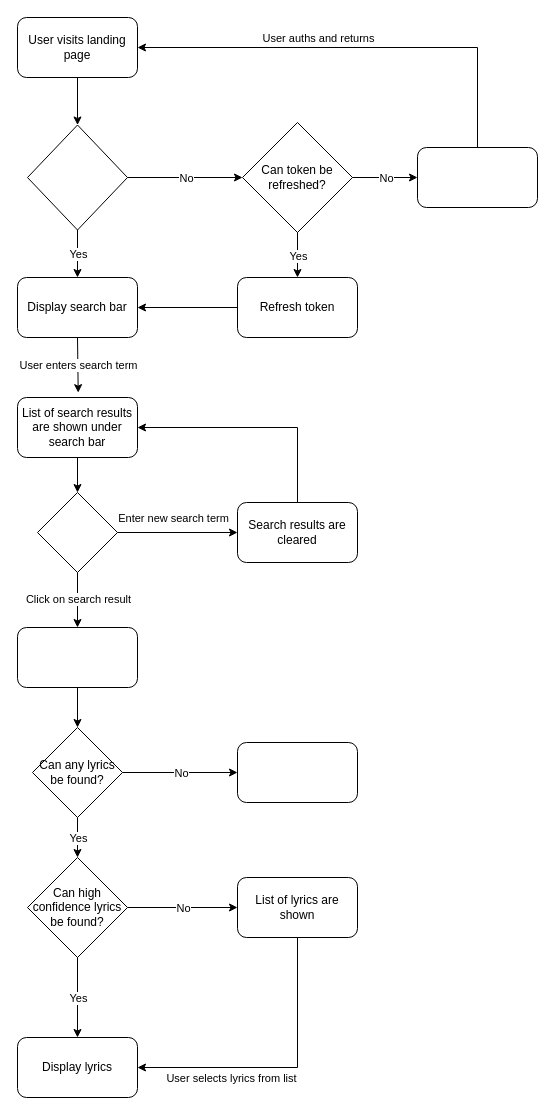
The diagram is 555 pixels wide and 1115 high, and some of its shapes have lost their labels. The shapes that lost their labels are listed below. From the top down, each one's centre as x and y in pixels, then its label:
point 77,177: App authenticated to spotify?
point 477,177: Show "Log in with Spotify" button
point 77,532: User action
point 77,657: Enter player view
point 297,772: Display "No lyrics could be found" message
